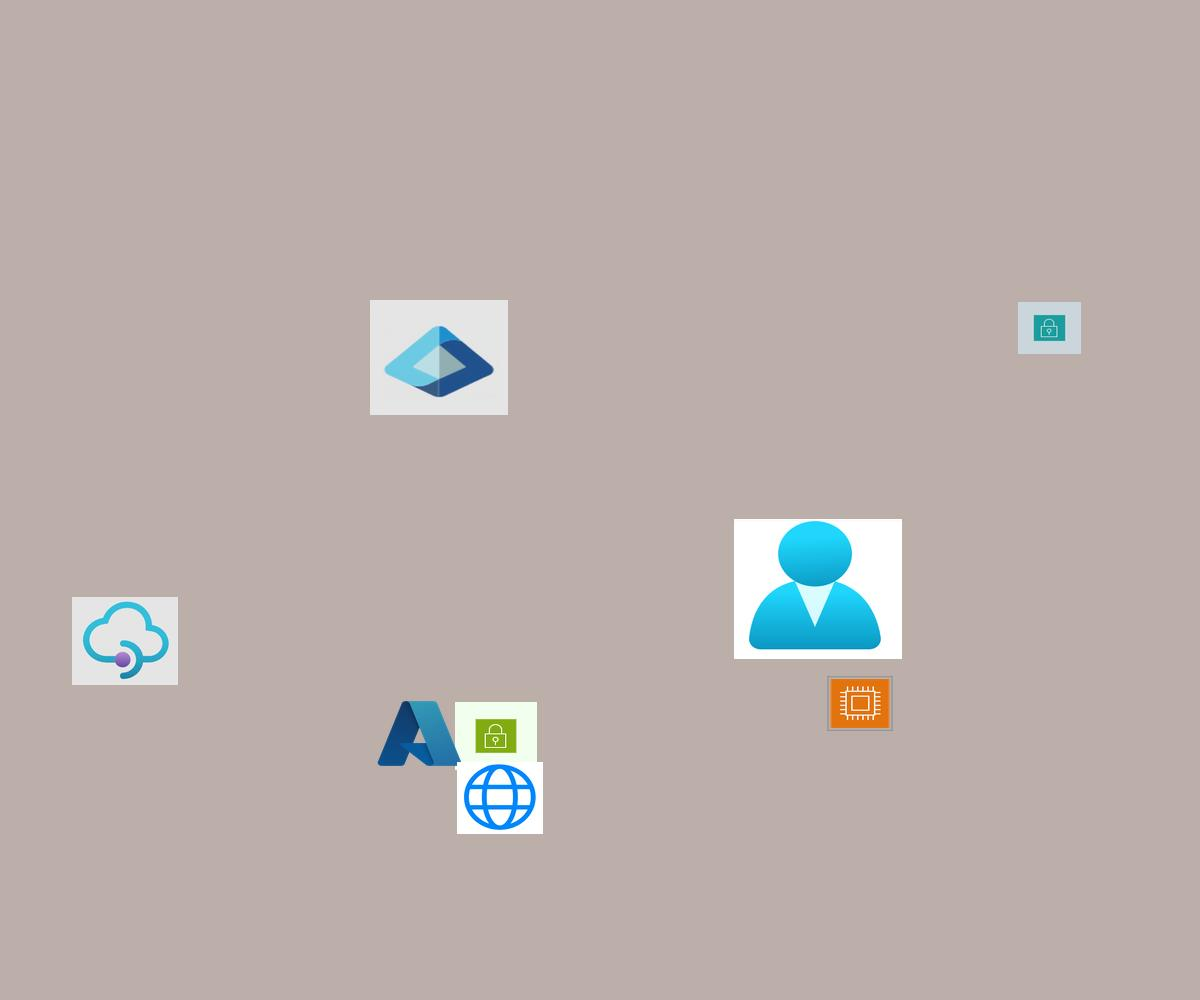AWS-Category_Compute: (827, 676, 893, 731)
AWS-Private-subnet: (1018, 302, 1081, 354)
AWS-Public-subnet: (455, 702, 537, 770)
Azure_api_gateway: (72, 597, 178, 685)
Azure_http: (457, 762, 543, 834)
Azure_microsoft_entra: (370, 300, 508, 415)
Azure_services: (374, 696, 465, 771)
Azure_users: (734, 519, 902, 659)
